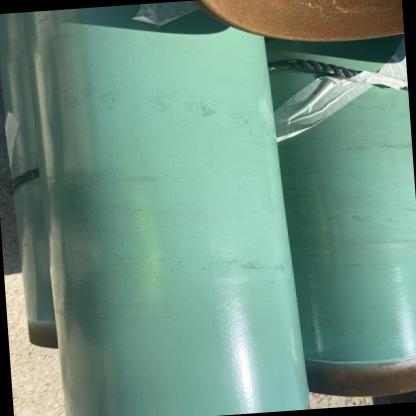clean: (145, 79, 242, 185)
